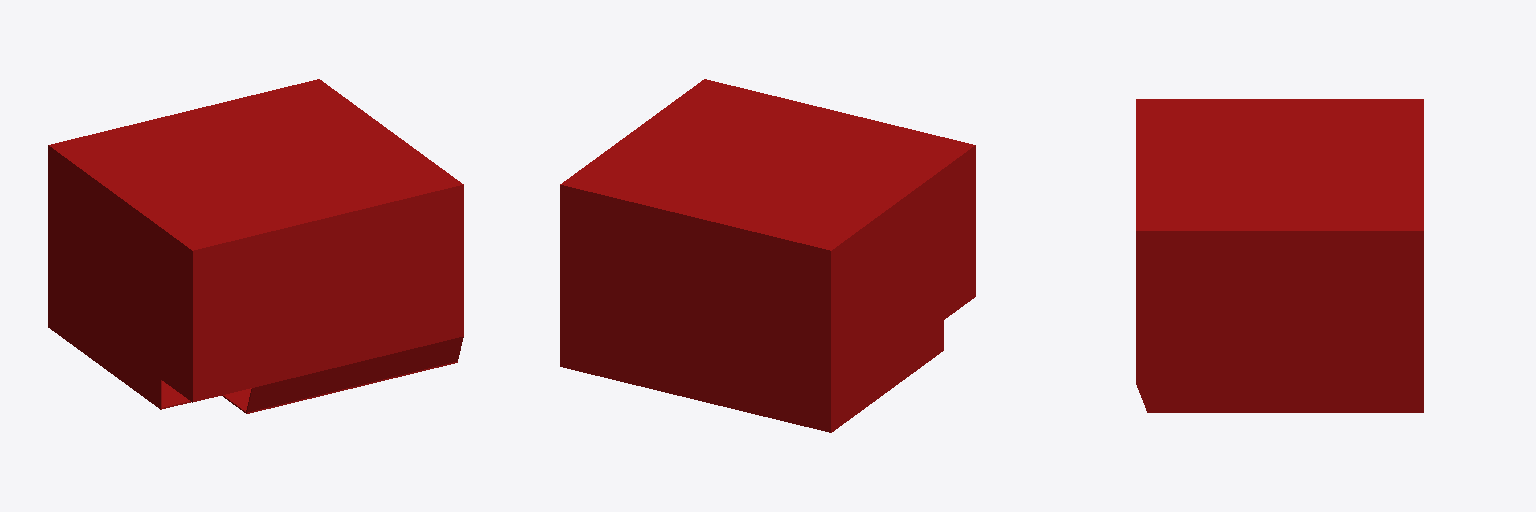
File: OBJ_Wall_Bunker.obj
The picture shows the model from 3 angles: view 1: azimuth 30°, elevation 25°; view 2: azimuth 150°, elevation 25°; view 3: azimuth 270°, elevation 25°; orthographic projection.
Parts seen in each view (by area): view 1: Box047.001; view 2: Box047.001; view 3: Box047.001.
Boxes of the visible parts, x1,y1,x2,y2 form: Box047.001: [48, 79, 463, 413]; Box047.001: [560, 79, 975, 432]; Box047.001: [1136, 99, 1423, 412].
Size of the model in its own units: 23.19 by 14.89 by 21.38.